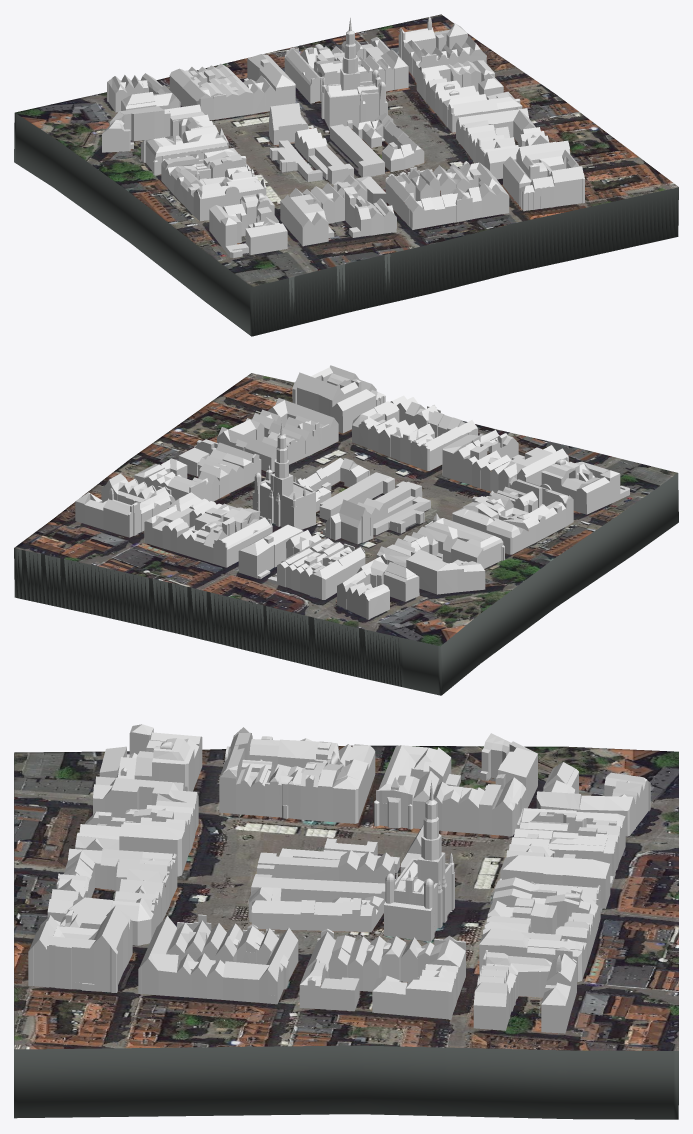
Rendered from Rynek_opt.glb.
3 views of the same model, one above another, from view 1: azimuth 30°, elevation 25°; view 2: azimuth 150°, elevation 25°; view 3: azimuth 270°, elevation 25° (orthographic). The views are drawn at different scales.
Visible parts, largest first — view 1: EXPORT_GOOGLE_SAT_WM.001, poznan.002; view 2: EXPORT_GOOGLE_SAT_WM.001, poznan.002; view 3: EXPORT_GOOGLE_SAT_WM.001, poznan.002.
Part boxes in pixels (box(x1,y1,x2,y2)): EXPORT_GOOGLE_SAT_WM.001: box(14, 14, 678, 336); poznan.002: box(102, 17, 584, 258); EXPORT_GOOGLE_SAT_WM.001: box(14, 373, 678, 695); poznan.002: box(75, 365, 629, 619); EXPORT_GOOGLE_SAT_WM.001: box(14, 745, 678, 1119); poznan.002: box(28, 724, 650, 1033).
Bounding box in the file's own units: 2.93 × 1.02 × 2.82.
Materials: 2 (1 with a texture image).
